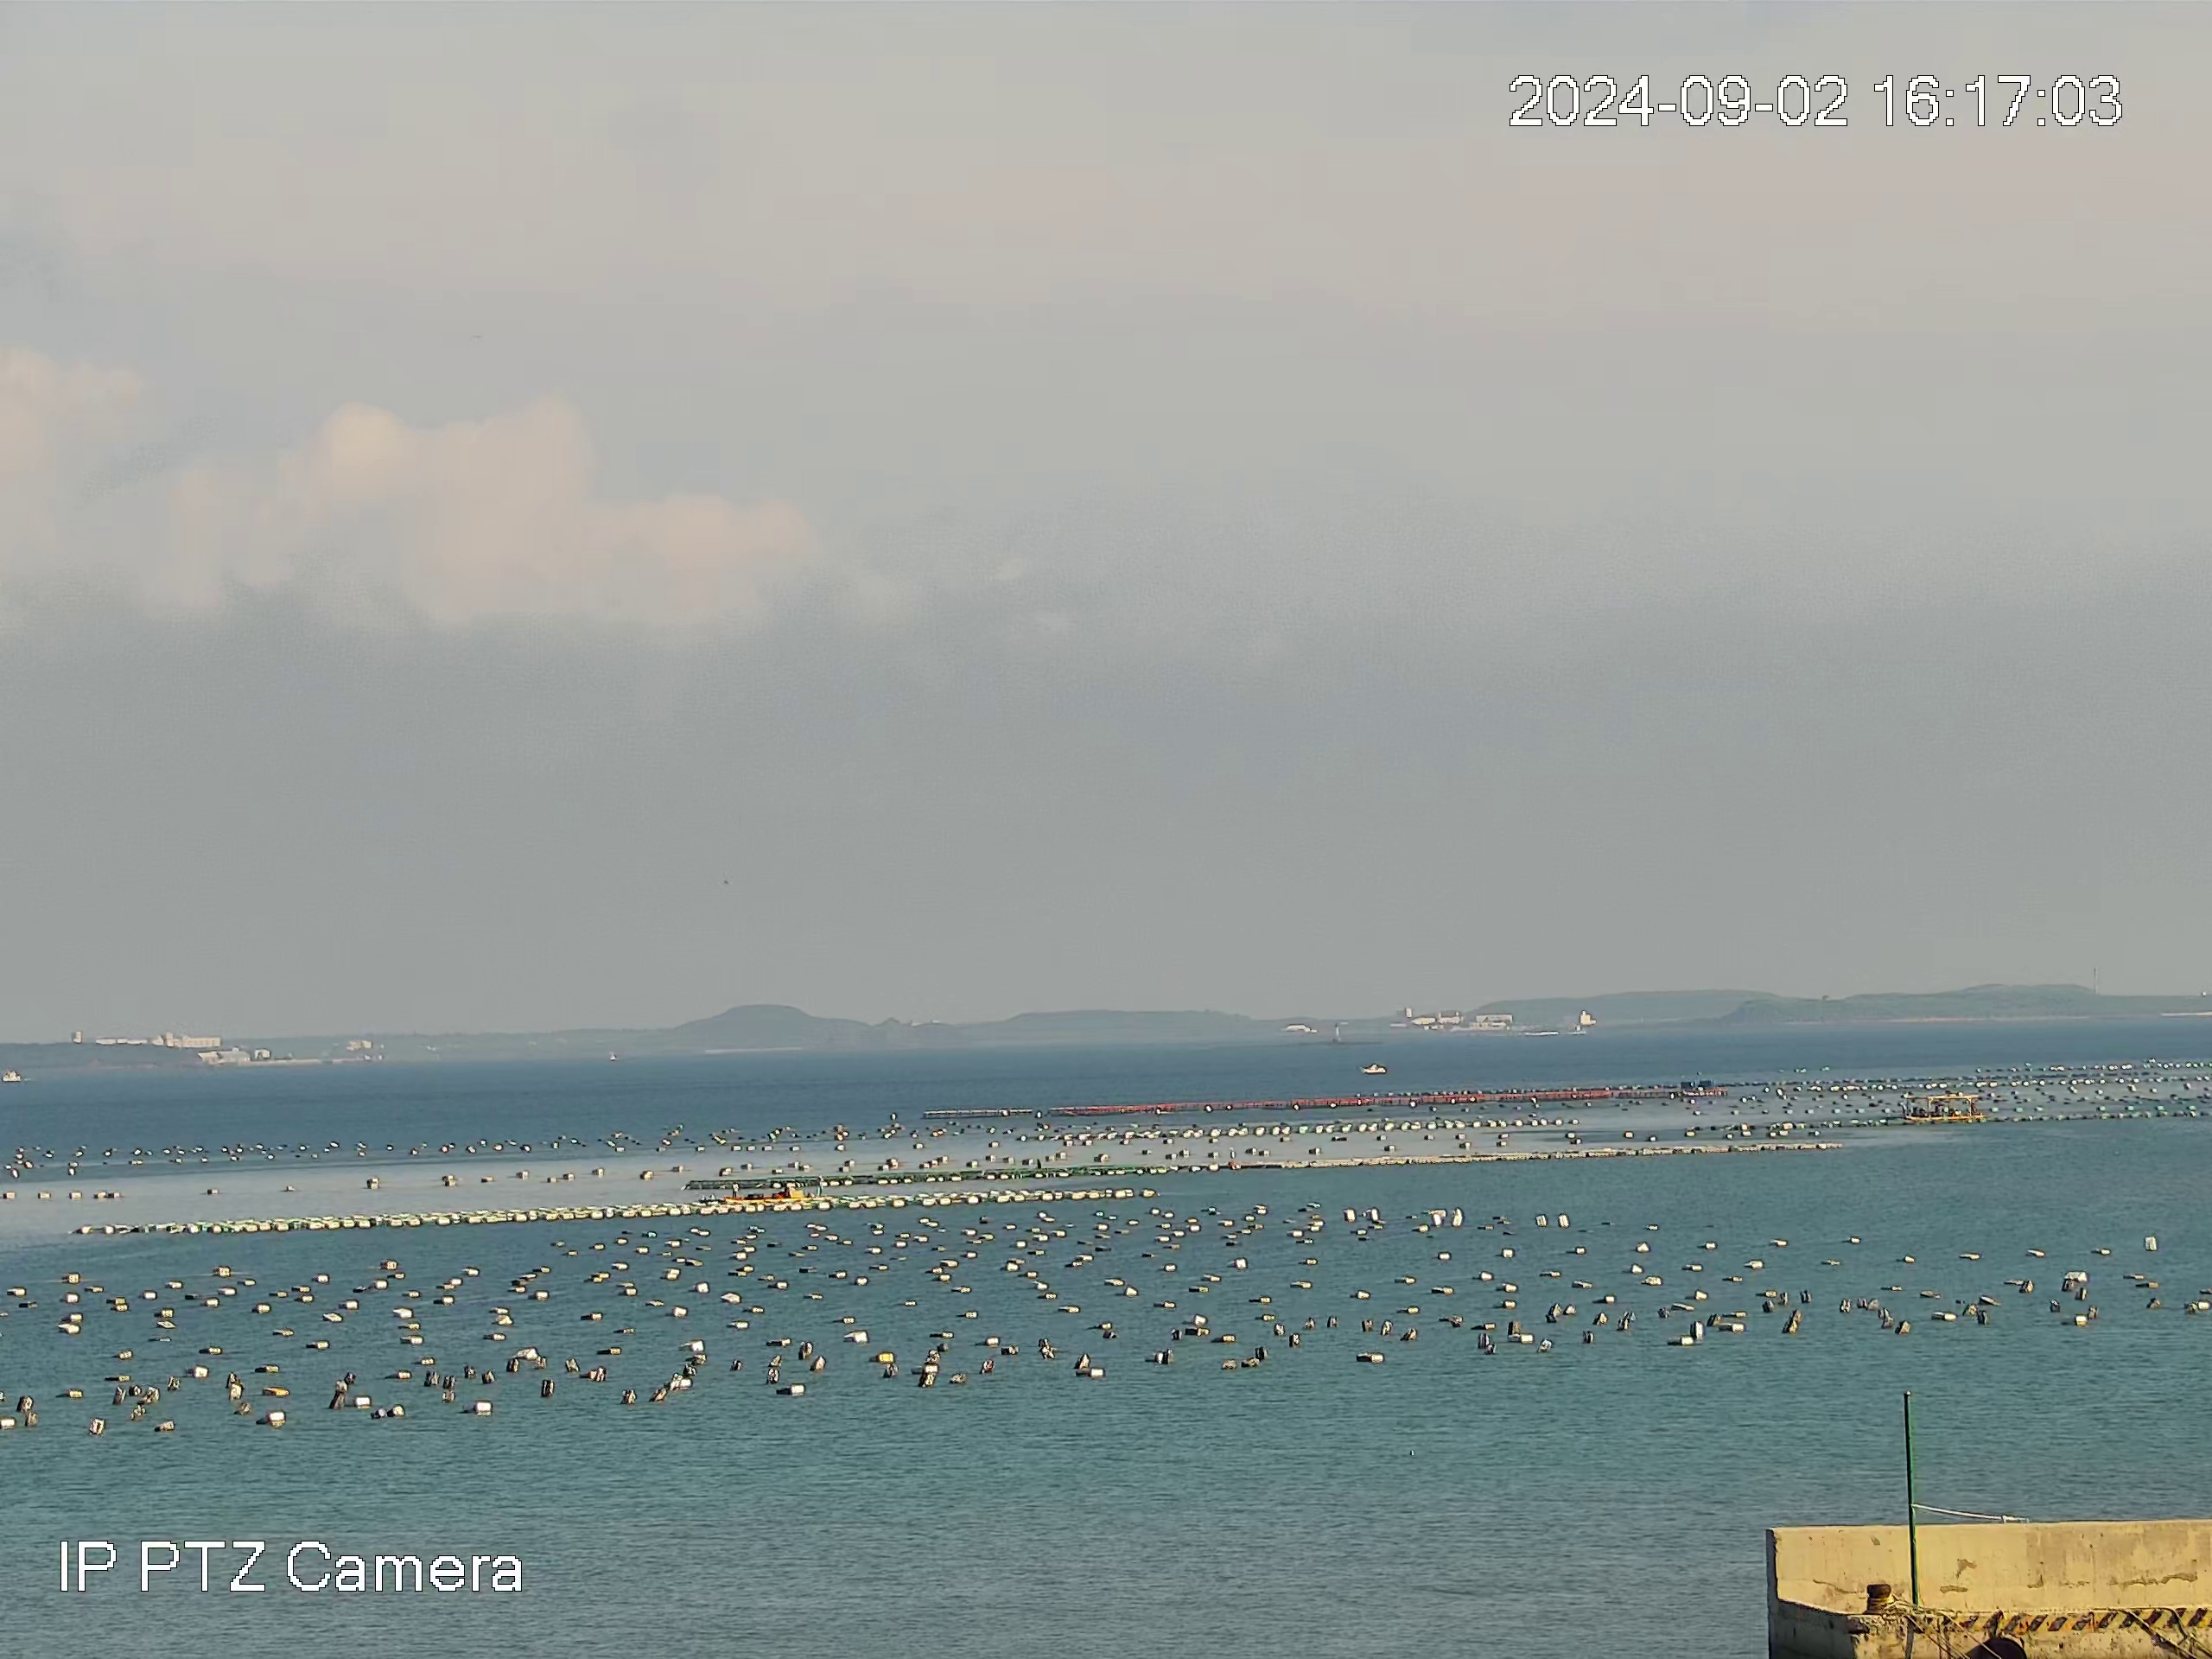boat: (1900, 1093, 1987, 1126), (723, 1180, 813, 1206), (1359, 1061, 1388, 1075)
